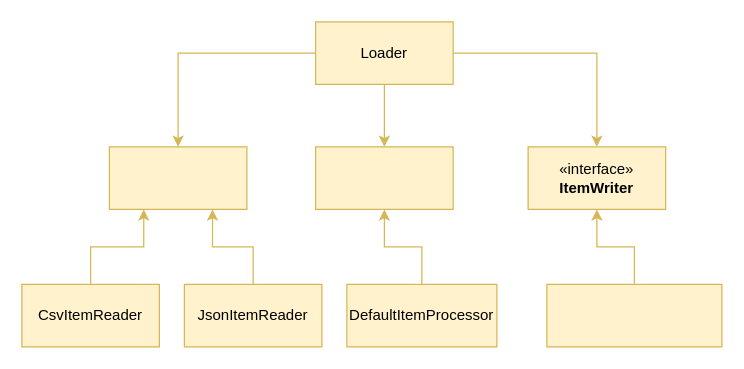
This 744x369 diagram has some shape labels left out. Here are the shapes that lost their labels. From the top down, the box of each, then its label:
(108, 146, 247, 209): «interface» ItemReader
(314, 146, 453, 209): «interface» ItemProcessor
(546, 283, 722, 347): RedisStreamItemWriter
